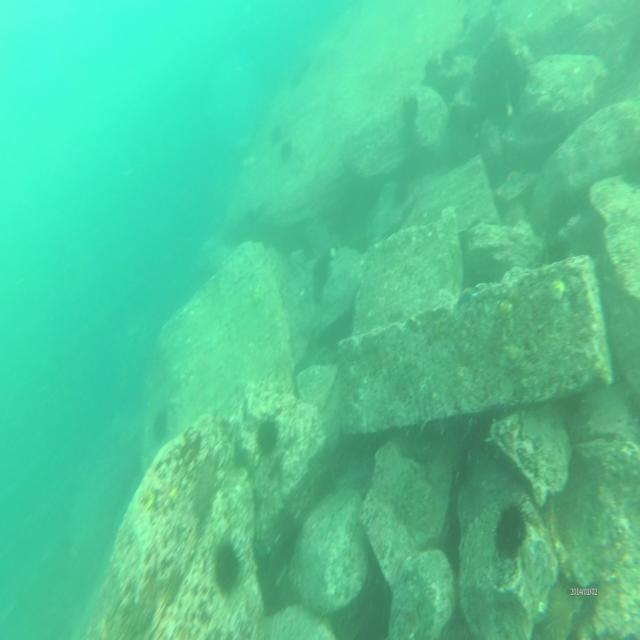echinus: (494, 500, 531, 566), (545, 580, 580, 640), (212, 540, 246, 597), (254, 412, 285, 461), (546, 187, 576, 231), (152, 406, 177, 458), (310, 257, 334, 311), (546, 235, 576, 265), (398, 96, 424, 128), (391, 180, 411, 209), (422, 56, 438, 88), (440, 48, 456, 76), (278, 138, 294, 164), (288, 67, 303, 92), (267, 122, 283, 144)
scallop: (134, 486, 156, 516), (153, 461, 173, 491), (549, 277, 568, 306), (495, 298, 514, 322)
